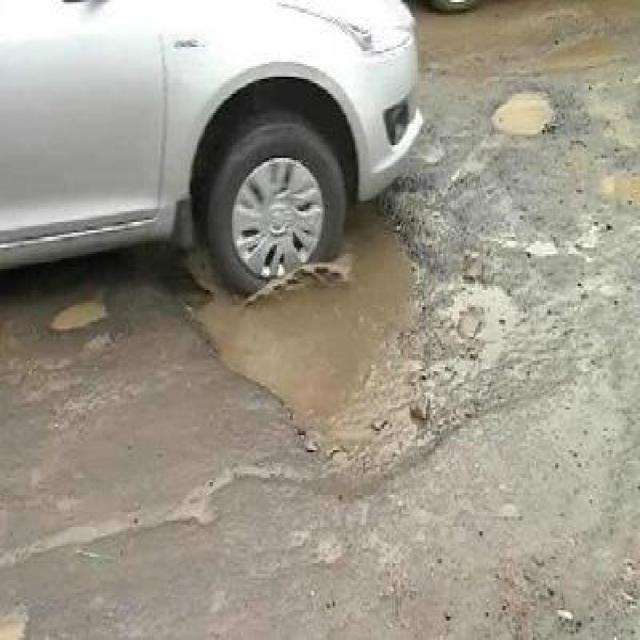pothole: (178, 164, 492, 493), (489, 84, 562, 134), (46, 292, 112, 335), (594, 155, 640, 213)
